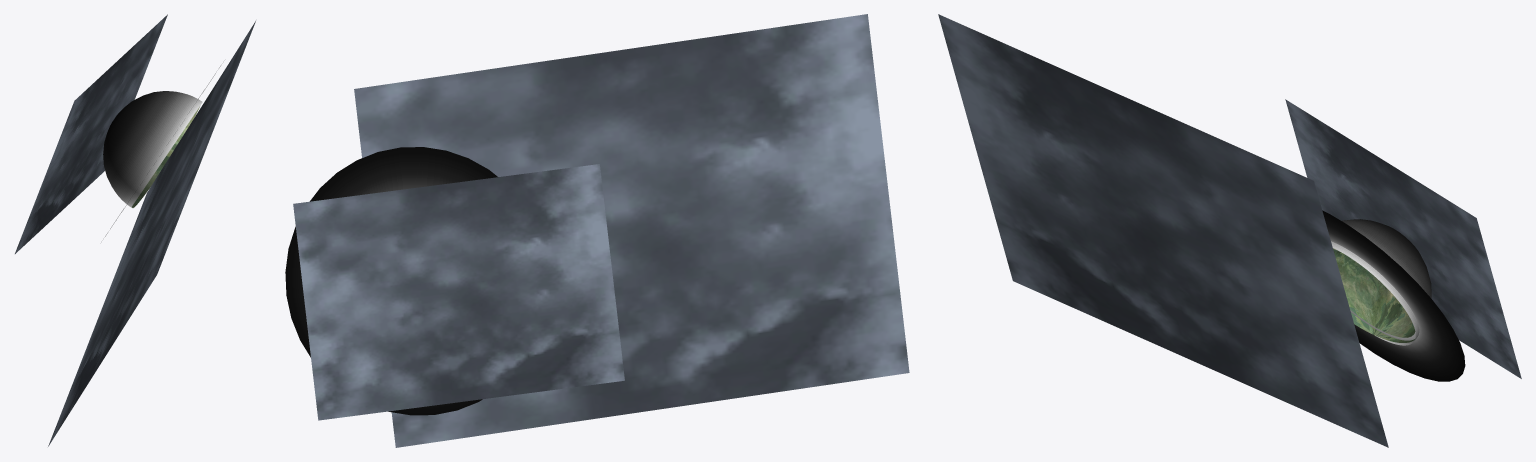
The model's file is env_space_mandalore_01_pre.glb.
3 renders of one model, left to right at view 1: azimuth 30°, elevation 25°; view 2: azimuth 150°, elevation 25°; view 3: azimuth 270°, elevation 25°, orthographic. The views are drawn at different scales.
Visible parts, largest first — view 1: GameObject (4), GameObject (3), planet_fresnel_mesh, planet_body_mesh; view 2: GameObject (4), GameObject (3), planet_glow_mesh; view 3: GameObject (4), GameObject (3), planet_glow_mesh, planet_body_mesh, planet_fresnel_mesh.
Part boxes in pixels (x1,y1,x2,y2): GameObject (4): [48, 21, 255, 446]; GameObject (3): [15, 14, 167, 253]; planet_fresnel_mesh: [103, 91, 202, 207]; planet_body_mesh: [131, 106, 199, 207]; GameObject (4): [354, 14, 909, 447]; GameObject (3): [293, 164, 624, 420]; planet_glow_mesh: [285, 147, 497, 415]; GameObject (4): [938, 14, 1388, 447]; GameObject (3): [1285, 99, 1521, 378]; planet_glow_mesh: [1322, 210, 1465, 381]; planet_body_mesh: [1333, 248, 1415, 342]; planet_fresnel_mesh: [1331, 219, 1431, 345].
Size of the model in its own units: 2295 by 1746 by 2903.
4 materials, 4 textured.
